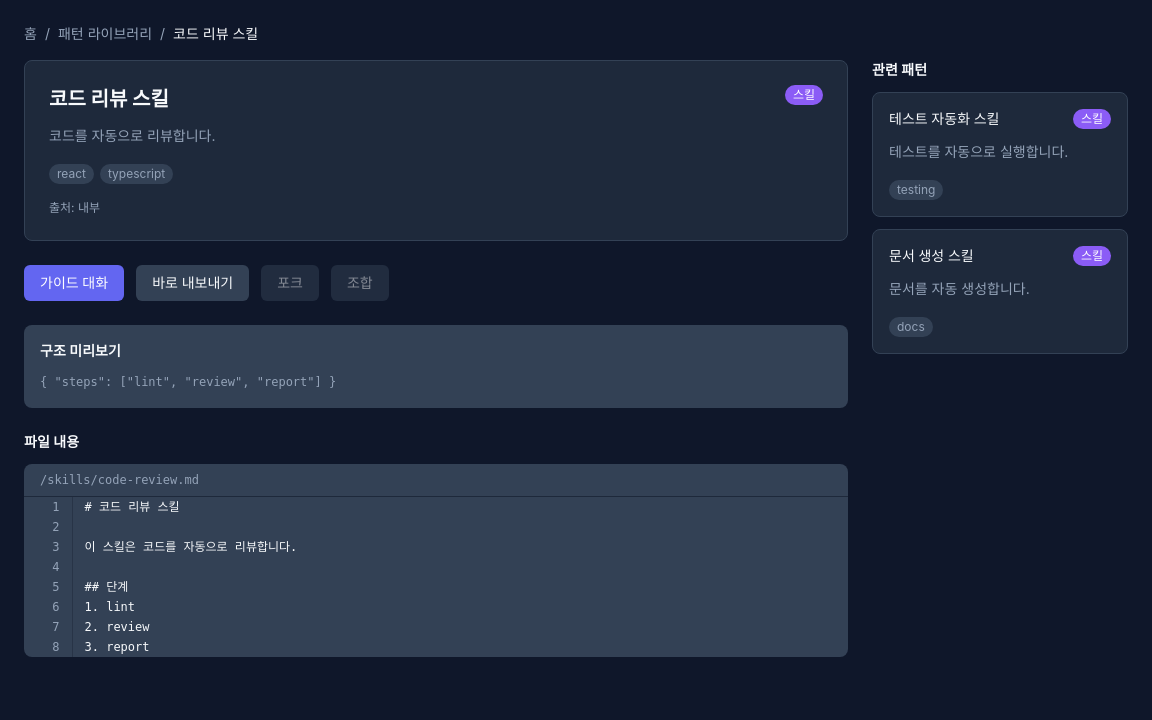
Scenario: PatternDetail Integration › 시나리오 3: 바로 내보내기 › "바로 내보내기" 실패 시 에러 Toast가 표시된다
Click the button "바로 내보내기". click: point(193, 283)
box: [136,265,249,301]
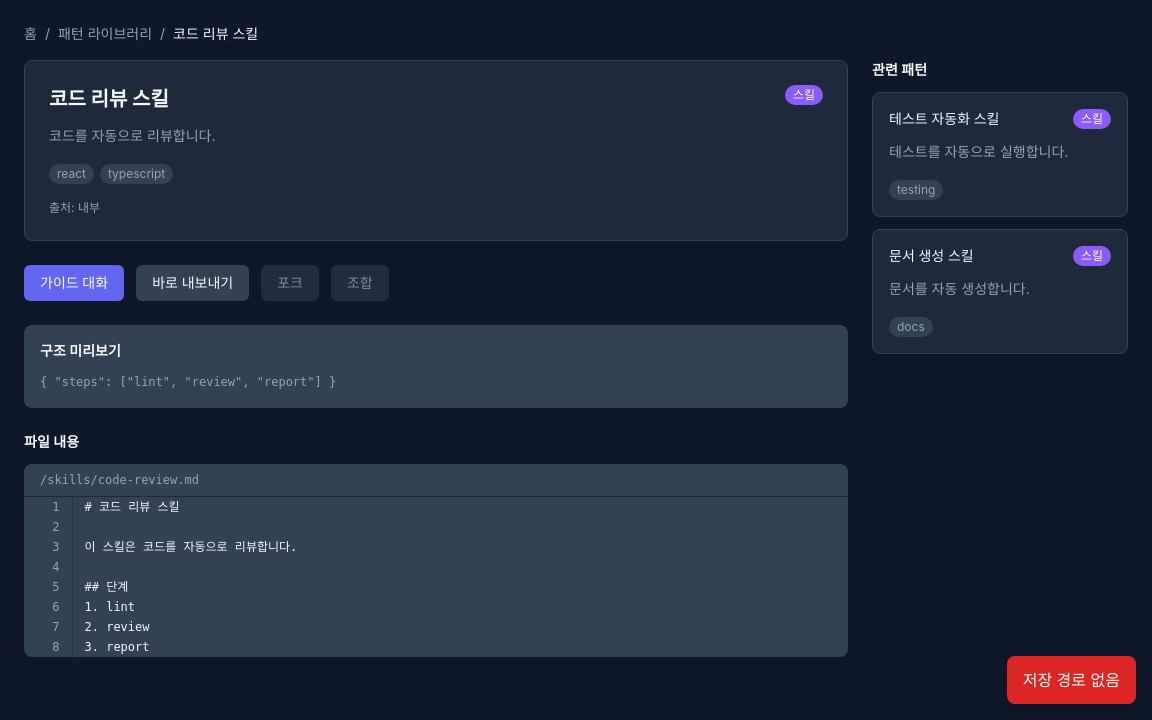
Expected: the text "저장 경로 없음" is shown, [1007,656,1136,704]
